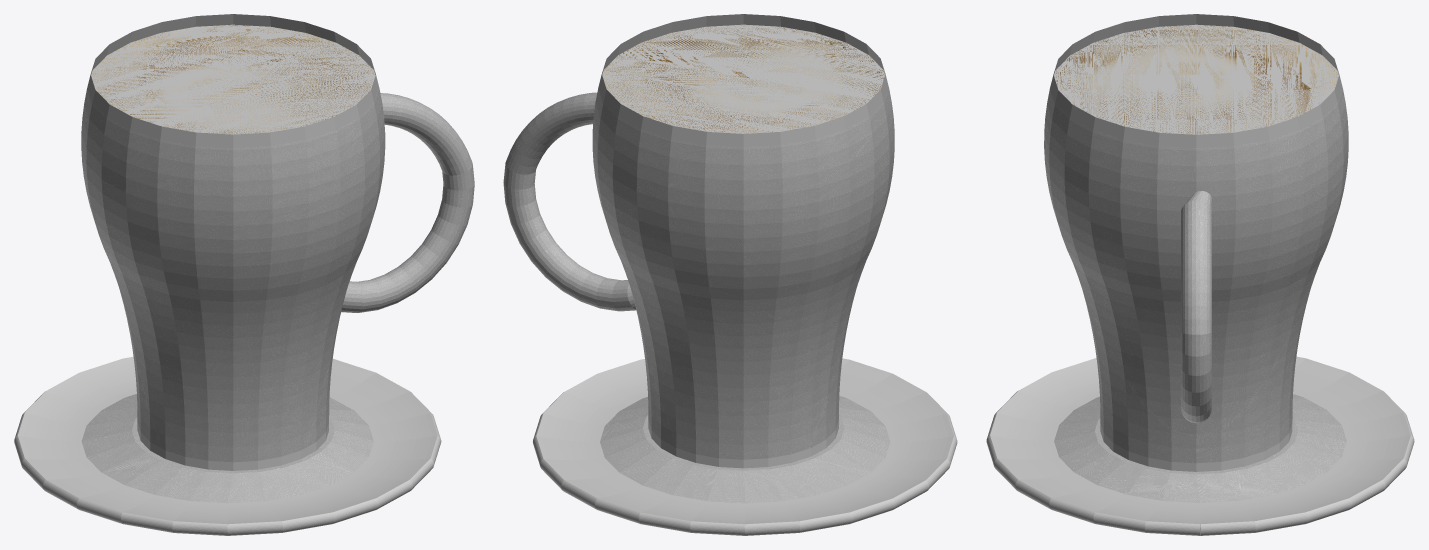
3 views of the same model, side by side, from view 1: azimuth 30°, elevation 25°; view 2: azimuth 150°, elevation 25°; view 3: azimuth 270°, elevation 25° (orthographic).
Visible parts, largest first — view 1: mesh1_mesh1-geometry, mesh2_mesh2-geometry; view 2: mesh1_mesh1-geometry, mesh2_mesh2-geometry; view 3: mesh1_mesh1-geometry, mesh2_mesh2-geometry.
Part boxes in pixels (x1=…): mesh1_mesh1-geometry: x1=14, y1=14, x2=441, y2=535; mesh2_mesh2-geometry: x1=341, y1=93, x2=474, y2=312; mesh1_mesh1-geometry: x1=533, y1=14, x2=957, y2=535; mesh2_mesh2-geometry: x1=503, y1=92, x2=636, y2=311; mesh1_mesh1-geometry: x1=986, y1=14, x2=1414, y2=535; mesh2_mesh2-geometry: x1=1181, y1=191, x2=1211, y2=423.
Bounding box in the file's own units: 0.6356 × 0.5425 × 0.5494.
3 materials, 1 textured.
